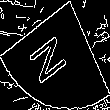N_NE: (31, 24, 79, 86)
